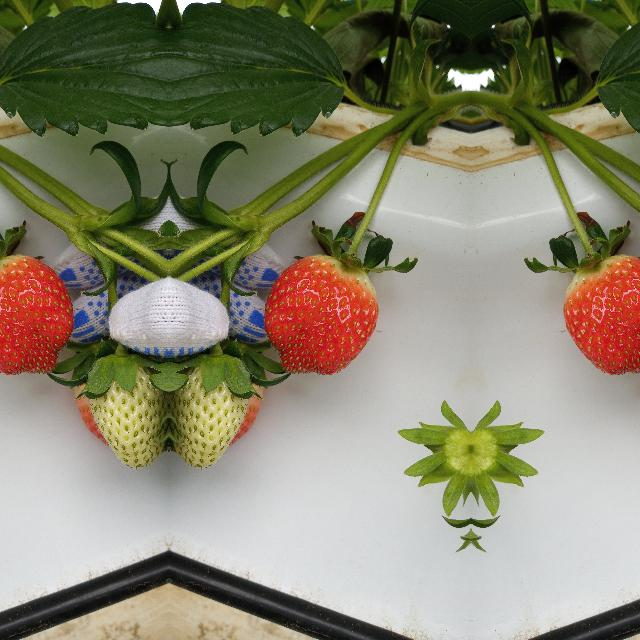Health_100: (262, 253, 378, 375), (562, 253, 640, 375), (0, 253, 74, 375)
Health_25: (178, 340, 250, 482), (86, 340, 158, 482)
